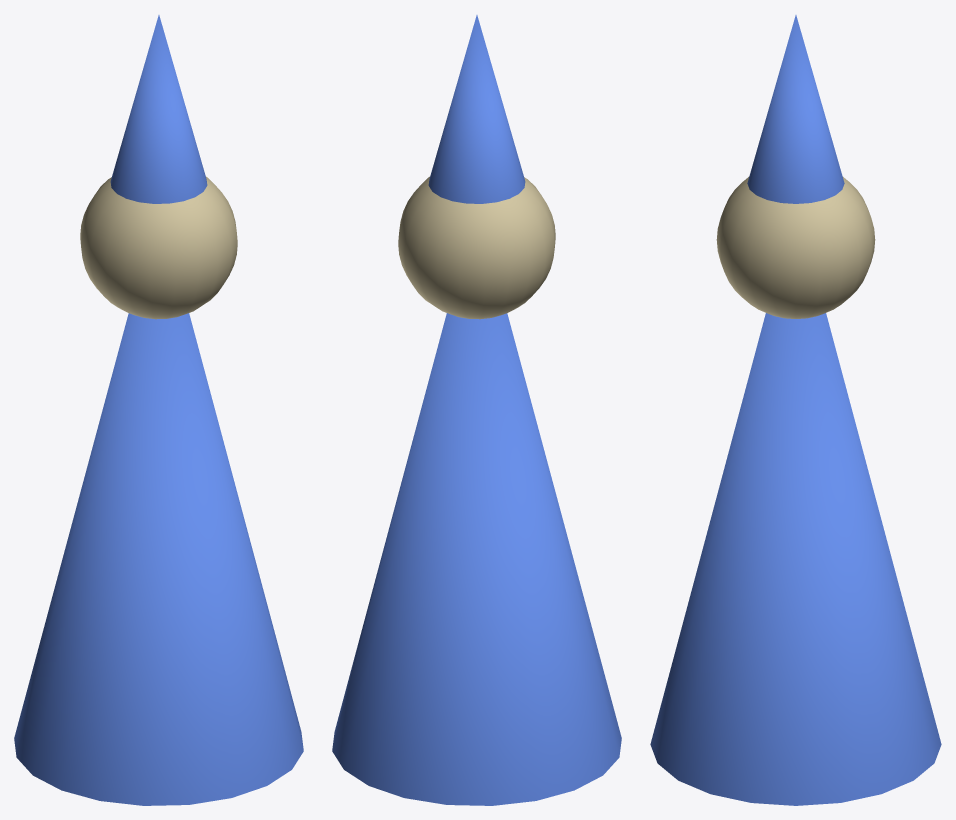
File: princesa01.fbx
3 views of the same model, side by side, from view 1: azimuth 30°, elevation 25°; view 2: azimuth 150°, elevation 25°; view 3: azimuth 270°, elevation 25° (orthographic).
Visible parts, largest first — view 1: princesa01; view 2: princesa01; view 3: princesa01.
Part boxes in pixels (x1,y1,x2,y2): princesa01: [14, 15, 303, 805]; princesa01: [332, 15, 621, 805]; princesa01: [650, 15, 941, 805].
Size of the model in its own units: 1.47 by 4.08 by 1.47.
